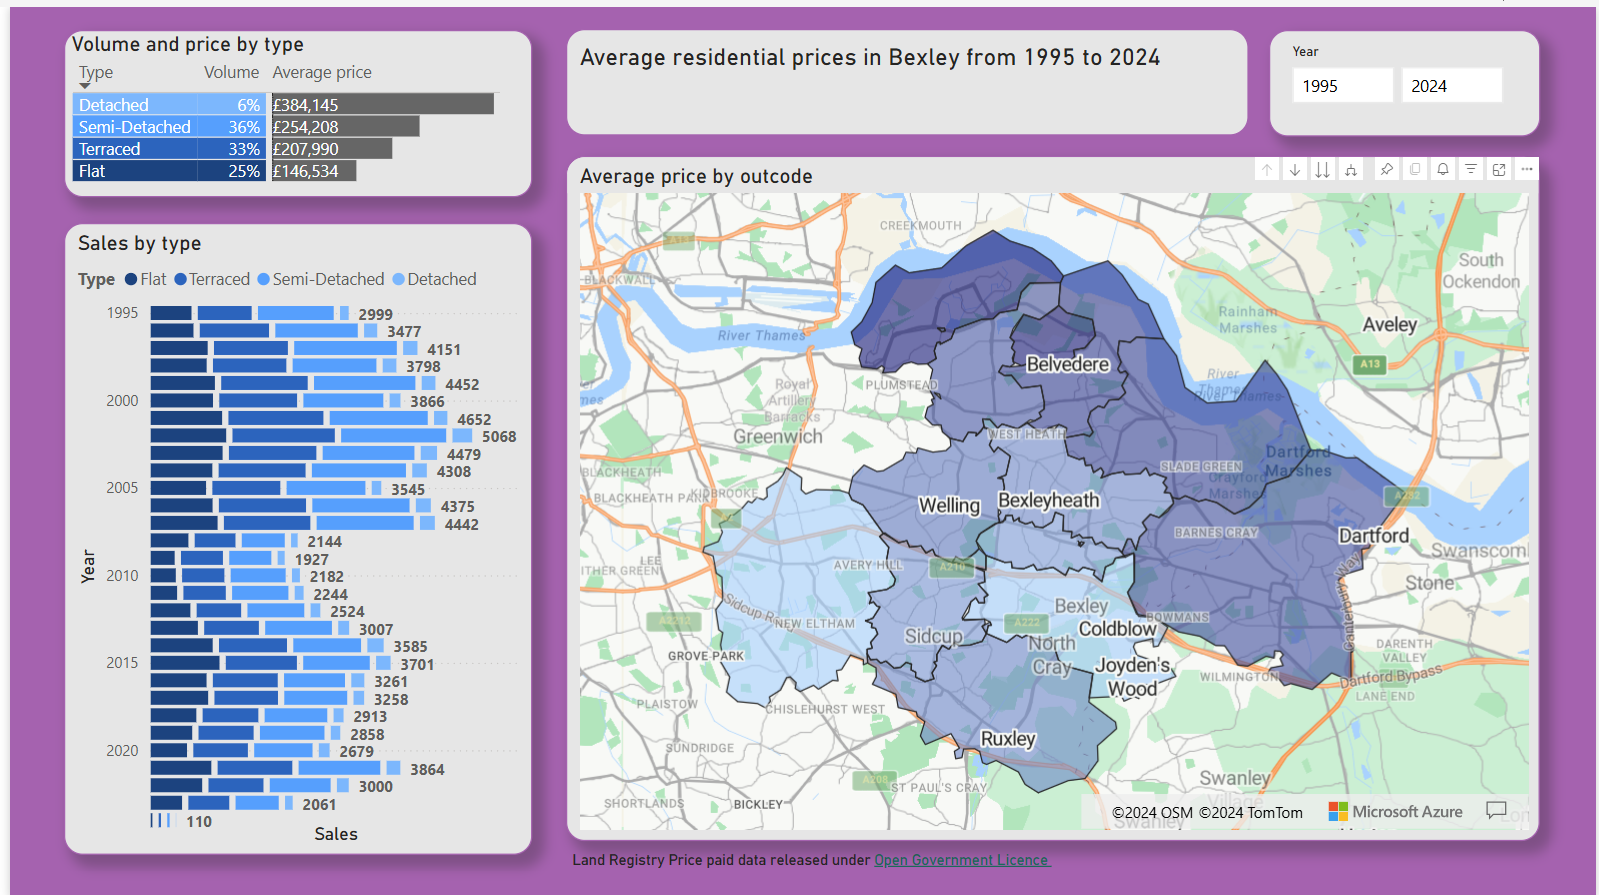

Layout of this report page (visuals, bound fields, positions):
{"tool":"powerbi","page":{"name":"House prices","canvas":[1280,720],"ordinal":0},"visuals":[{"type":"azureMap","fields":{"Category":["ppd_data.outcode","ppd_data.Sector"]},"box":[449,120,786,553],"z":0},{"type":"tableEx","title":"Volume and price by type","fields":{"Values":["Property Types.Type","ppd_data.property_type","Measures_Table.average price"]},"box":[43.6,18.4,378.2,134.8],"z":1000},{"type":"slicer","fields":{"Values":["ppd_data.deed_date.Variation.Date Hierarchy.Year"]},"box":[1016.2,18.4,219.2,86.3],"z":2000},{"type":"textbox","box":[449,18,551,86],"z":3000},{"type":"barChart","title":"Sales by type","fields":{"Category":["ppd_data.deed_date.Variation.Date Hierarchy.Year"],"Y":["CountNonNull(ppd_data.property_type)"],"Series":["Property Types.Type"]},"box":[43.6,174.5,378.2,510.1],"z":4000},{"type":"textbox","box":[449,673,594,38],"z":5000}]}

Visuals, with their boxes in screenshot pixels (x1, y1, x2, y2), scaled from the page's 1280x720 canvas onto the 1599x895 screenshot:
azureMap - ppd_data.outcode x ppd_data.Sector: 561:149:1543:837
"Volume and price by type" tableEx: 54:23:527:190
slicer - ppd_data.deed_date.Variation.Date Hierarchy.Year: 1269:23:1543:130
textbox: 561:22:1249:129
"Sales by type" barChart: 54:217:527:851
textbox: 561:837:1303:884
